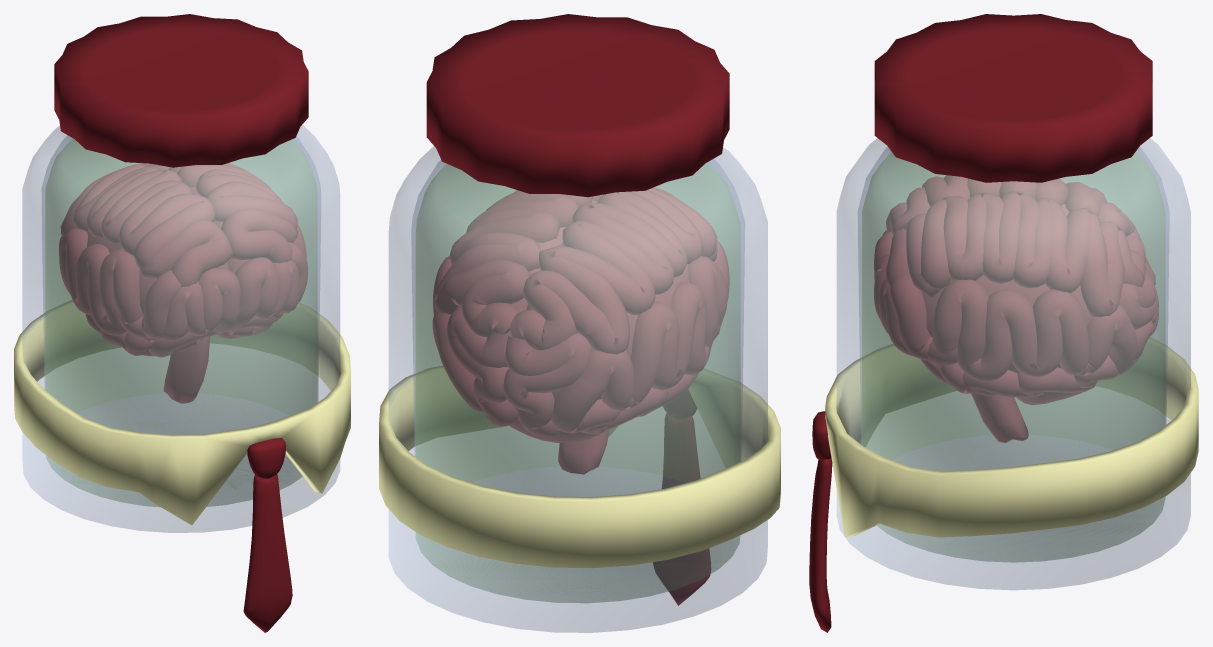
Rendered from Brain.fbx.
3 renders of one model, left to right at view 1: azimuth 30°, elevation 25°; view 2: azimuth 150°, elevation 25°; view 3: azimuth 270°, elevation 25°, orthographic. The views are drawn at different scales.
Parts seen in each view (by area): view 1: Brain; view 2: Brain; view 3: Brain.
Part boxes in pixels (x1=…): Brain: x1=14, y1=14, x2=350, y2=632; Brain: x1=379, y1=14, x2=780, y2=632; Brain: x1=809, y1=14, x2=1198, y2=632.
Size of the model in its own units: 88.79 by 146 by 92.09.
